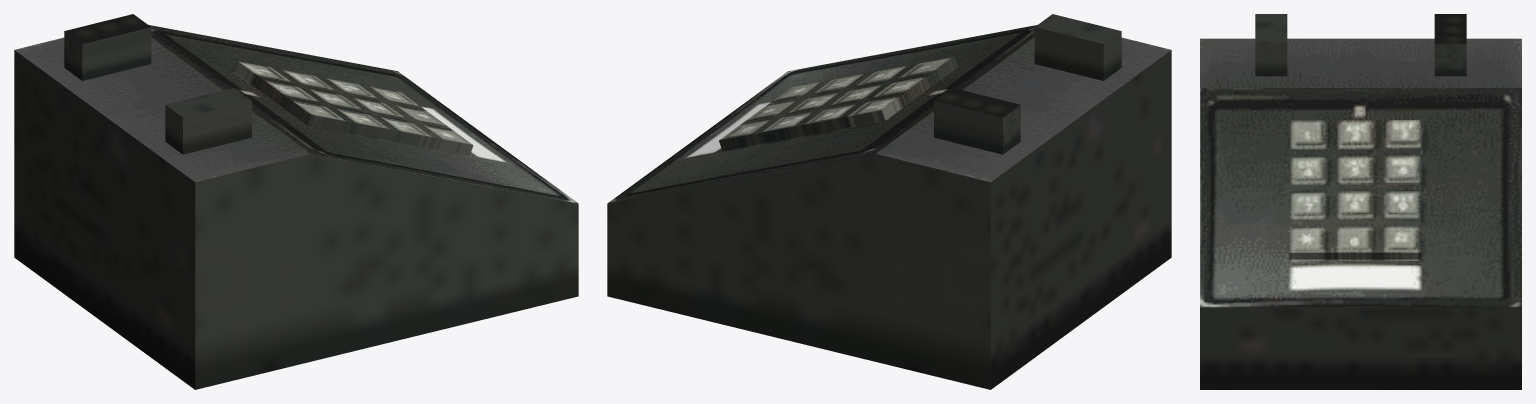
Rendered from Телефон.fbx.
3 views of the same model, side by side, from view 1: azimuth 30°, elevation 25°; view 2: azimuth 150°, elevation 25°; view 3: azimuth 270°, elevation 25° (orthographic). The views are drawn at different scales.
Visible parts, largest first — view 1: Phone Box; view 2: Phone Box; view 3: Phone Box.
Boxes of the visible parts, x1,y1,x2,y2 form: Phone Box: (14, 14, 578, 389); Phone Box: (607, 14, 1171, 389); Phone Box: (1200, 14, 1521, 389).
Bounding box in the file's own units: 22.96 × 14.01 × 18.76.
Materials: 1 (1 with a texture image).
